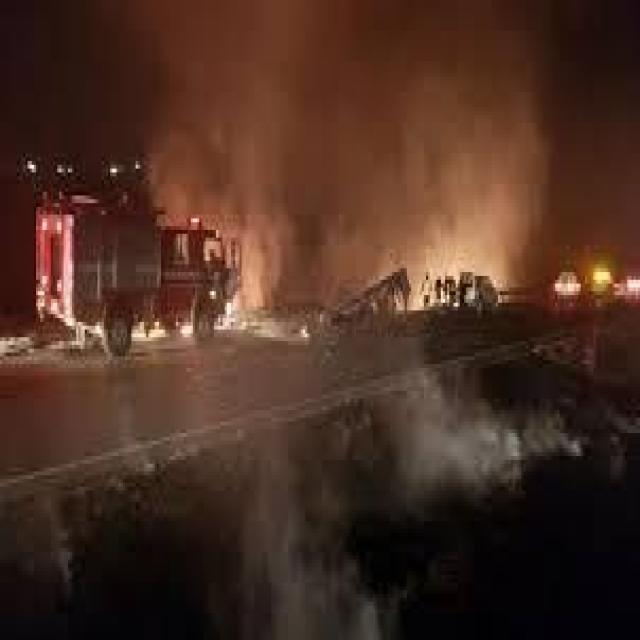smoke: (139, 20, 559, 274)
